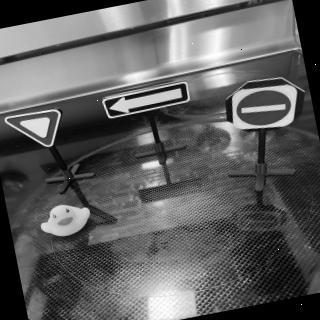duck_regular: (37, 200, 95, 242)
sign_noentry: (224, 76, 307, 138)
sign_oneway_left: (102, 82, 193, 122)
sign_yield: (5, 107, 70, 159)
